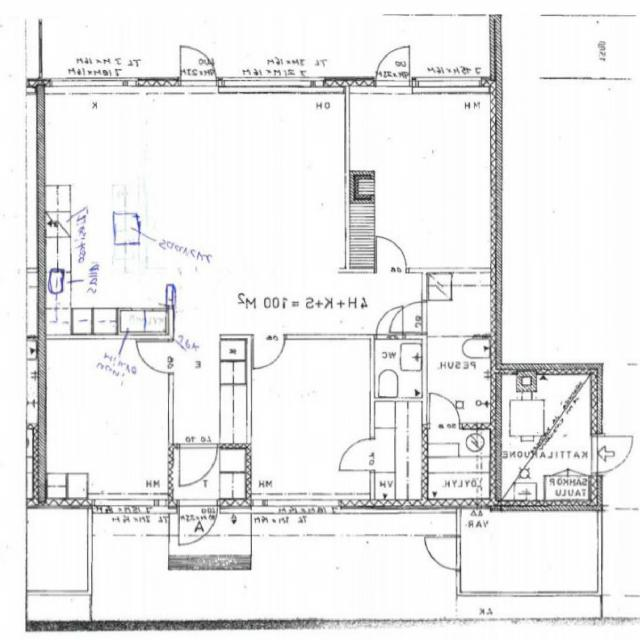door: (181, 42, 216, 92), (180, 498, 217, 544), (592, 436, 639, 472), (377, 43, 410, 93), (180, 444, 217, 487), (424, 536, 462, 570), (253, 335, 285, 372), (138, 341, 174, 373), (376, 237, 407, 273), (430, 392, 460, 429), (392, 302, 427, 332), (340, 440, 375, 470), (377, 307, 403, 340)
